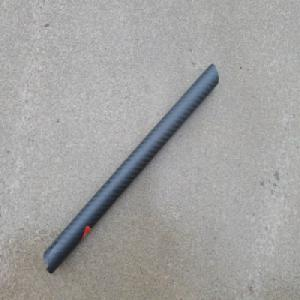LuggagePart: (42, 61, 219, 277)
